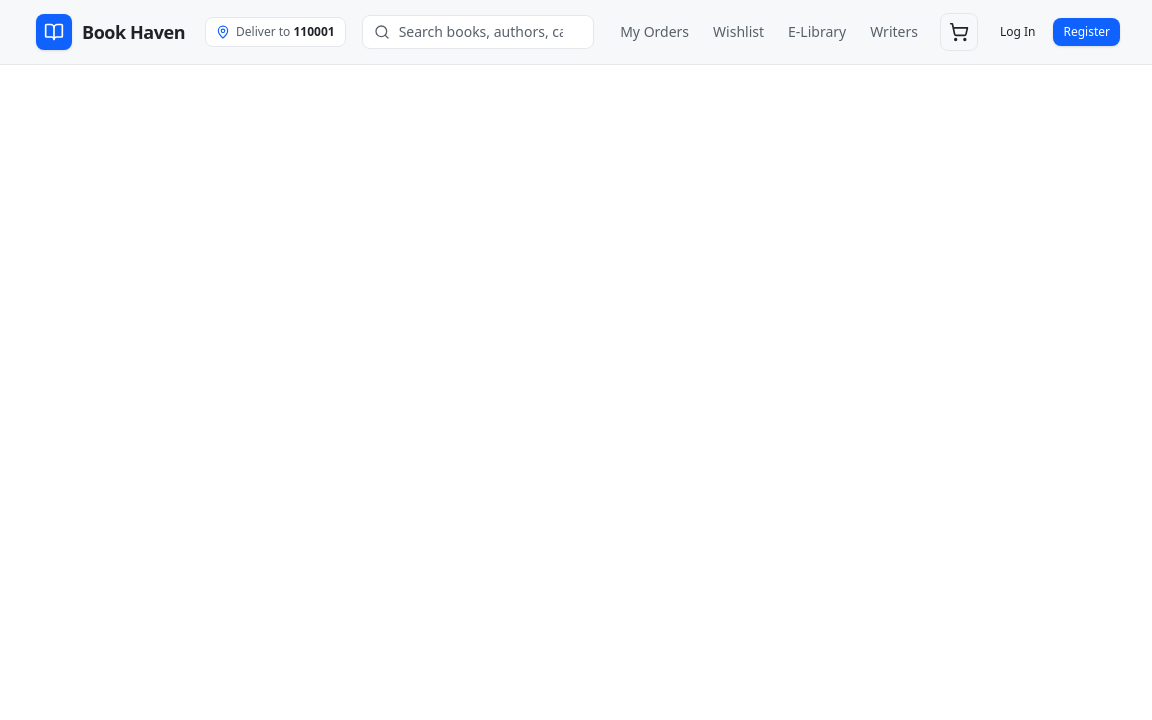
Navbar › renders delivery pincode and opens location modal
Click the button with aria-label "deliver to pincode" at (275, 32), box [205,17,346,47]
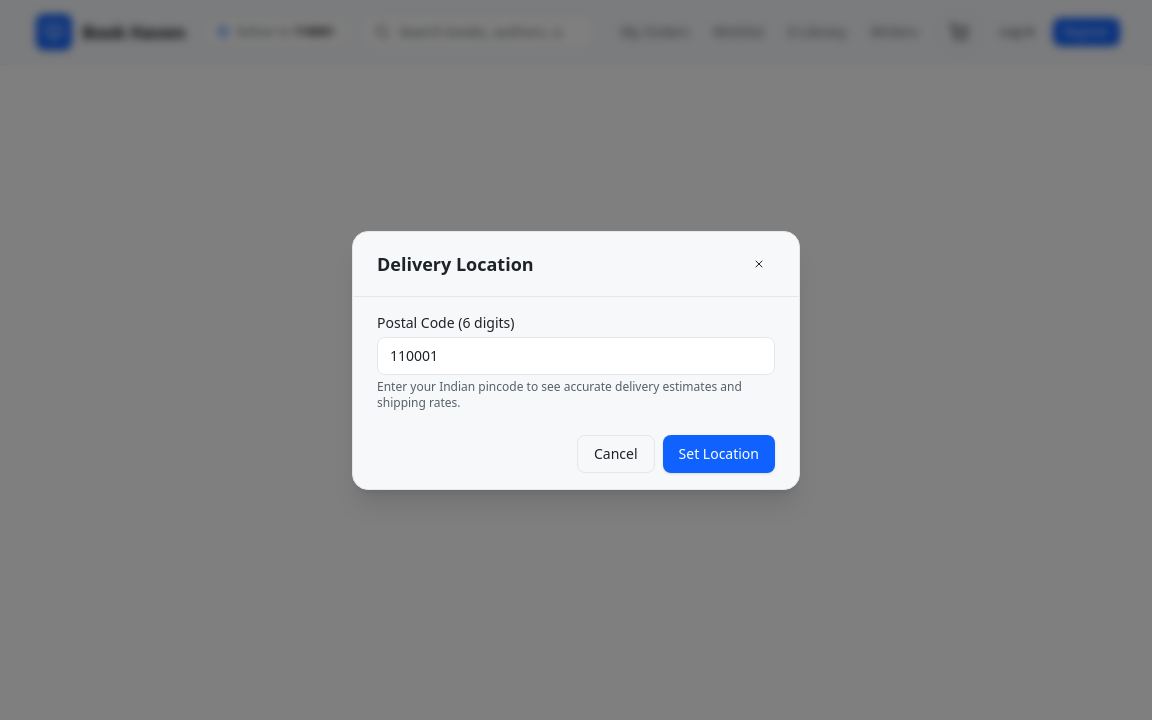
Expected: the dialog is shown, [352,230,800,490]
Expected: the heading "Delivery Location" is shown, [377,250,534,278]
